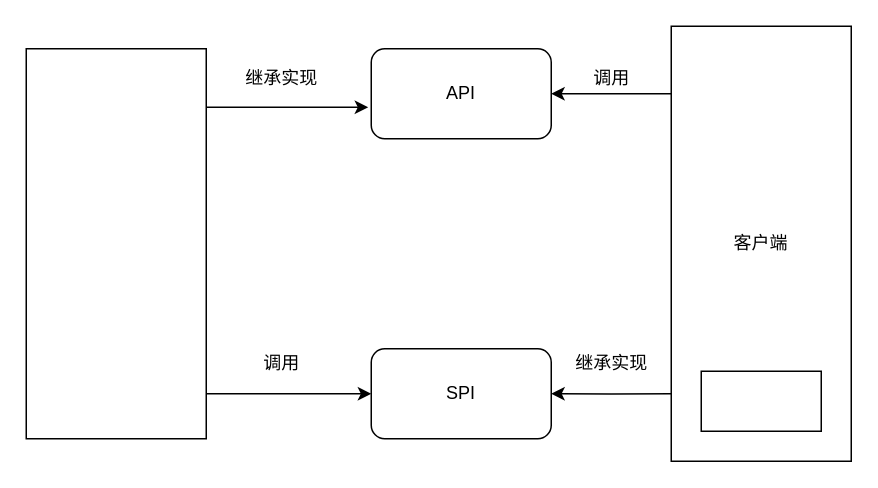
The diagram is 878 pixels wide and 488 high, and some of its shapes have lost their labels. Here are the shapes that lost their labels. From the top down, the centre of each, then its label:
point (115, 243): 服务端
point (760, 400): 驱动
